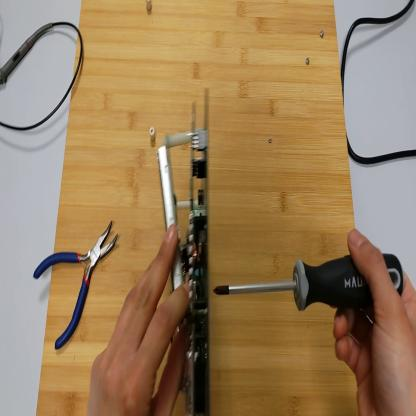hand: (89, 224, 191, 415), (335, 226, 416, 416)
low voltage board: (168, 89, 215, 416)
oscilloscope probe tip: (2, 22, 52, 85)
pliers: (33, 216, 121, 354)
screwdriver-: (215, 254, 406, 314)
working area: (37, 2, 360, 415)
